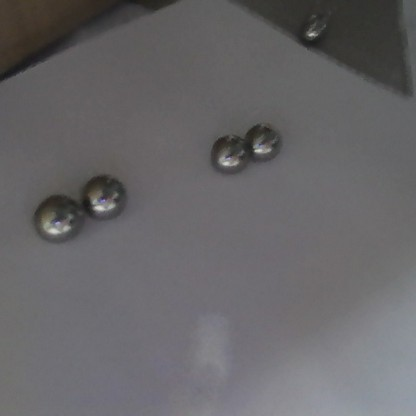ironball: (33, 192, 84, 243), (81, 173, 129, 219), (211, 131, 251, 177), (242, 120, 283, 163), (297, 6, 330, 46)
